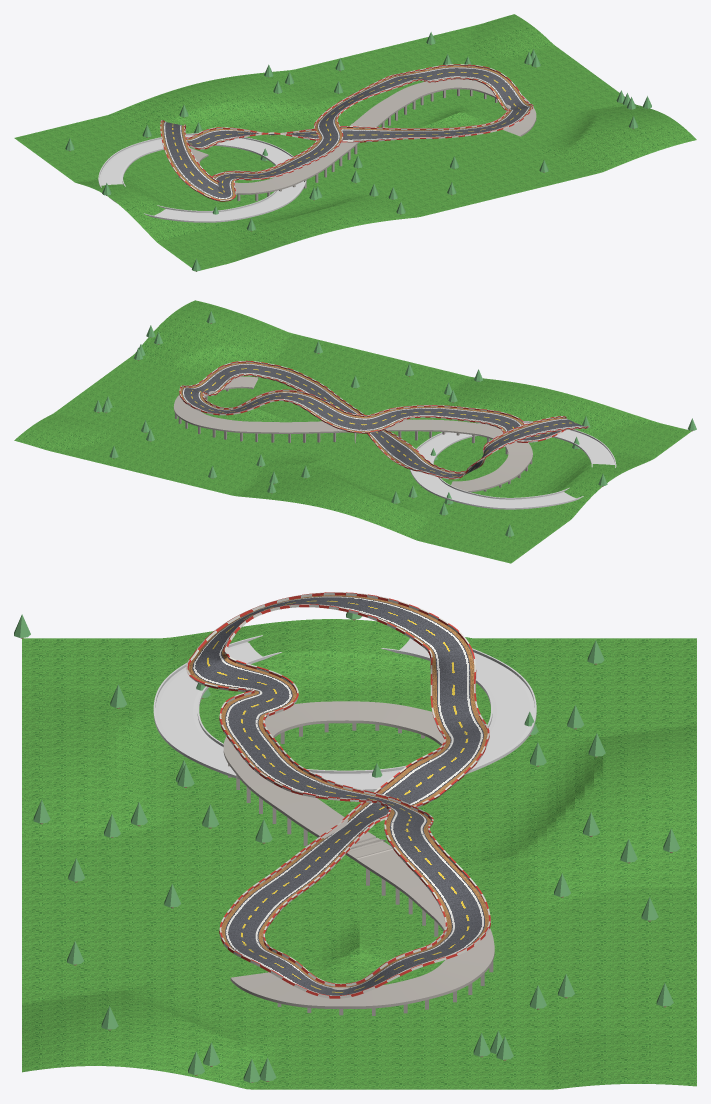
3 views of the same model, one above another, from view 1: azimuth 30°, elevation 25°; view 2: azimuth 150°, elevation 25°; view 3: azimuth 270°, elevation 25° (orthographic). The views are drawn at different scales.
Visible parts, largest first — view 1: Terrain, Figure 8, Road, Bridge Deck; view 2: Terrain, Figure 8, Bridge Deck, Road; view 3: Terrain, Figure 8, Bridge Deck, Road.
Boxes of the visible parts, box(x1,y1,x2,y2) form: Terrain: box(14, 14, 696, 270); Figure 8: box(160, 64, 533, 201); Road: box(98, 133, 306, 222); Bridge Deck: box(190, 79, 536, 194); Terrain: box(14, 300, 691, 563); Figure 8: box(179, 360, 588, 479); Bridge Deck: box(173, 376, 532, 492); Road: box(410, 421, 616, 509); Terrain: box(22, 619, 696, 1089); Figure 8: box(186, 592, 490, 998); Bridge Deck: box(223, 701, 494, 1008); Road: box(153, 635, 536, 791).
Size of the model in its own units: 384 by 42.96 by 243.
7 materials, 4 textured.
